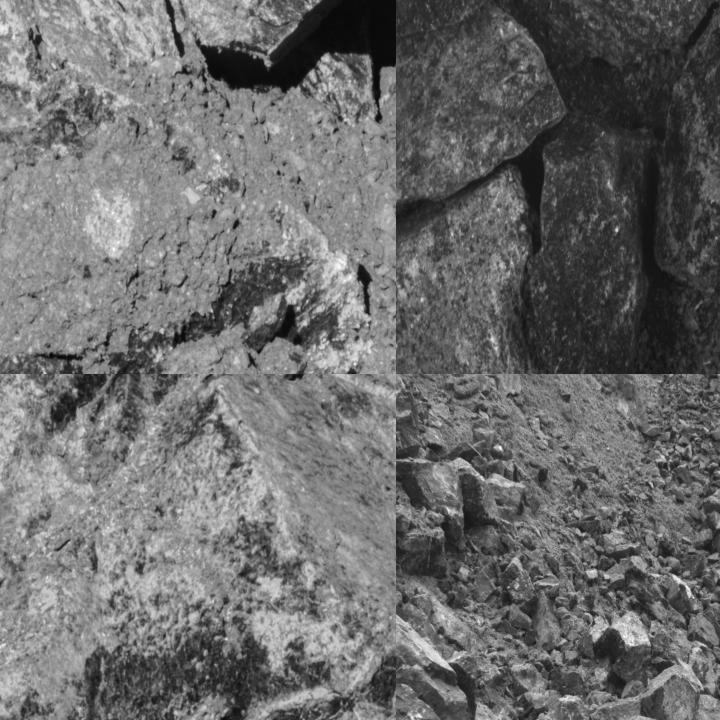stone: (396, 0, 568, 222), (396, 161, 574, 373), (528, 118, 656, 373), (396, 598, 467, 719), (396, 459, 467, 546), (302, 52, 376, 126), (648, 621, 719, 697), (600, 613, 651, 687), (639, 660, 702, 719), (454, 459, 500, 526), (396, 527, 449, 580), (396, 386, 423, 467), (663, 573, 704, 618), (533, 695, 592, 719), (507, 570, 538, 613), (686, 612, 720, 648), (619, 555, 647, 579), (681, 554, 708, 578), (701, 494, 719, 528), (700, 511, 719, 536), (710, 639, 719, 668)
